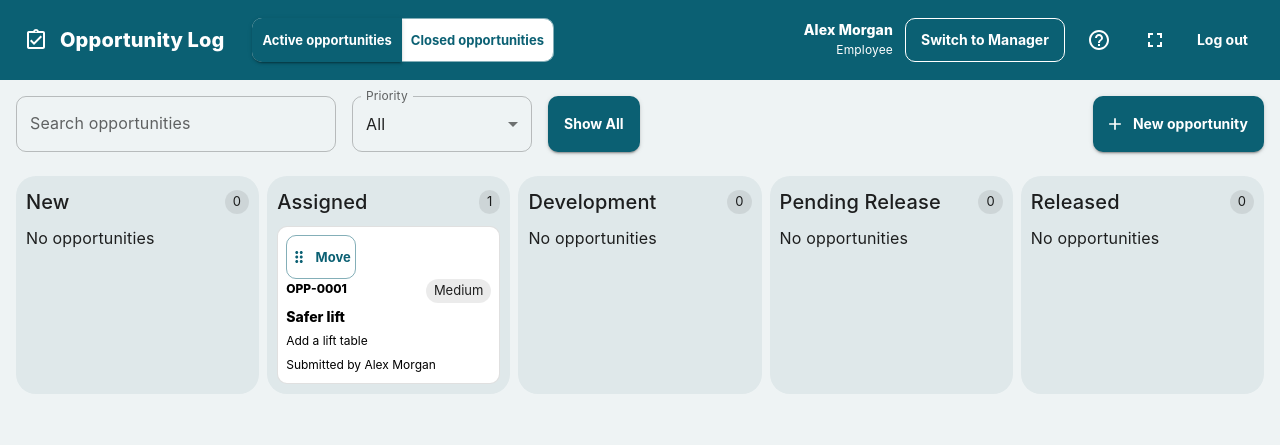
Test: login and application shell › uses employee filter action labels and Show All clears employee filters
This screenshot has width=1280, height=445.
Expected: the button "Show All" is shown, x1=548 y1=96 x2=640 y2=152
Type "missing" into the field labelled "Search opportunities" at (176, 124), box x1=16 y1=96 x2=336 y2=152
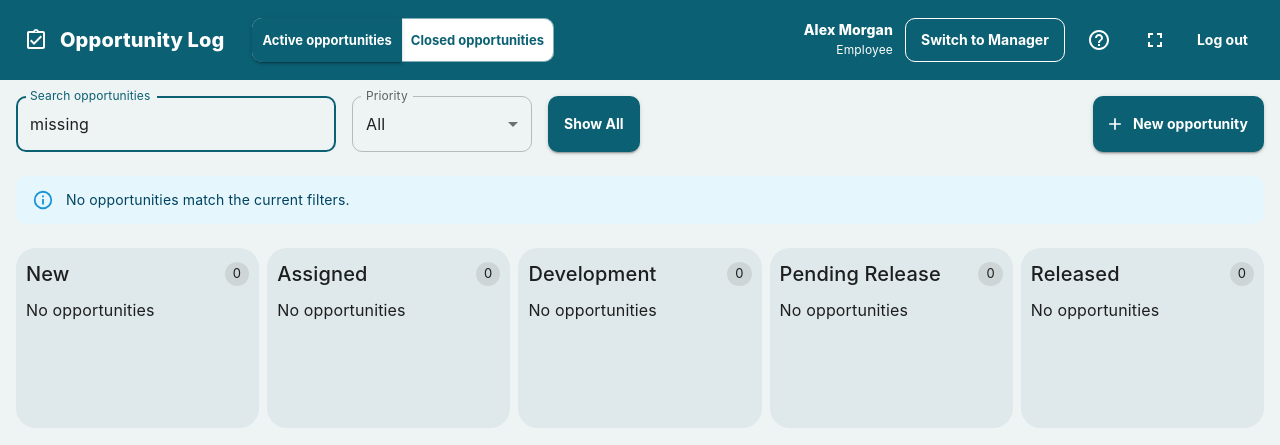
Click the button "Show All" at (594, 124), box x1=548 y1=96 x2=640 y2=152
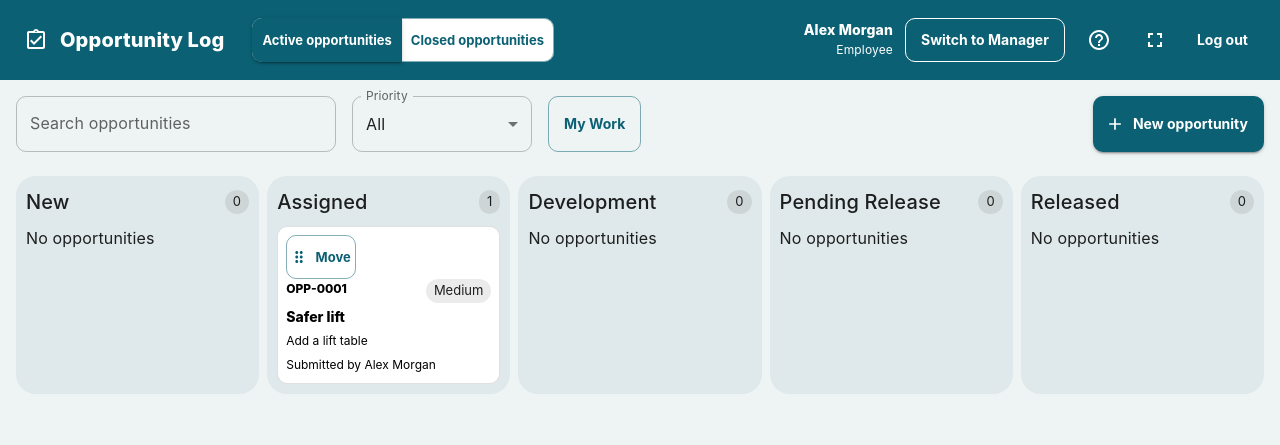
Now the field labelled "Search opportunities" is empty, box x1=16 y1=96 x2=336 y2=152
Now the button "My Work" is shown, box x1=548 y1=96 x2=641 y2=152
Now the heading "Safer lift" is shown, box x1=286 y1=308 x2=345 y2=325
